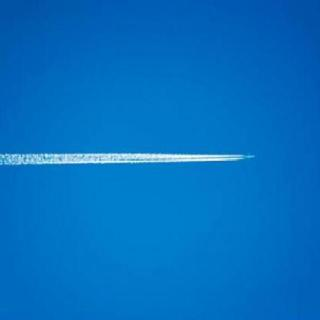Contrails: (0, 0, 312, 272)
